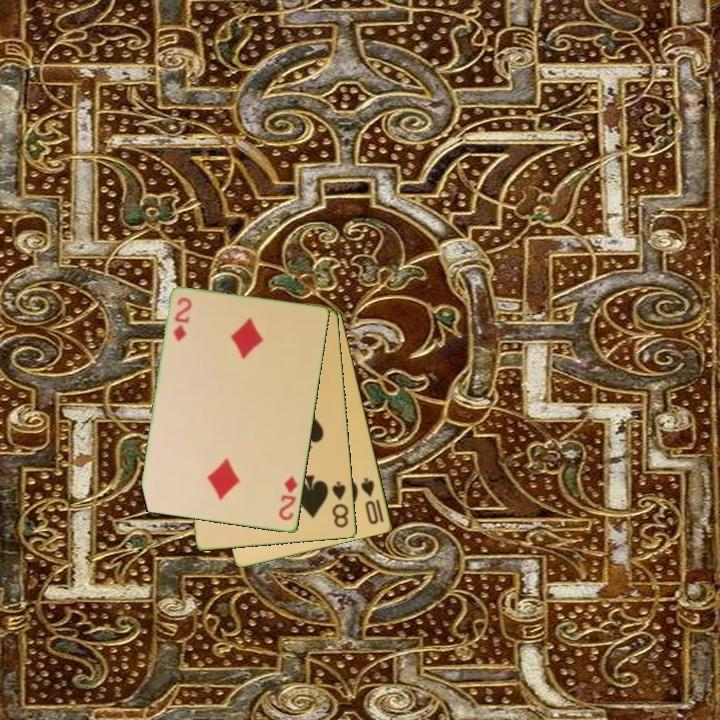10s: (358, 474, 382, 528)
2d: (276, 473, 301, 523), (170, 294, 194, 345)
8s: (329, 478, 352, 531)
